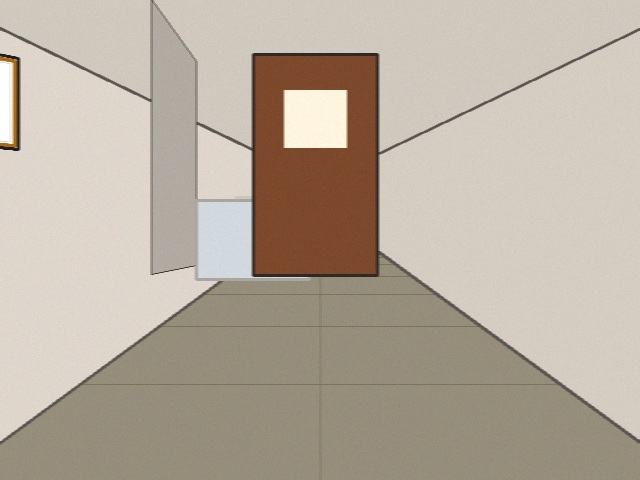directional_sign: (0, 7, 18, 149)
door: (253, 54, 377, 275)
hospital_bed: (196, 200, 313, 279), (270, 205, 368, 274)
